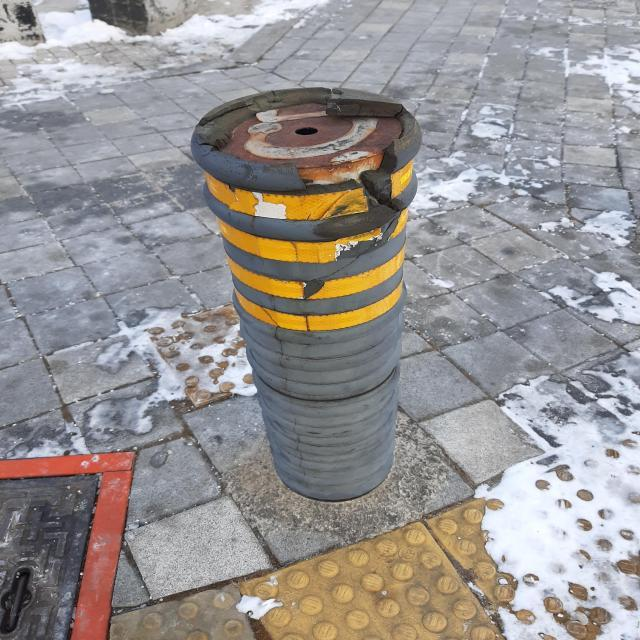pole: (186, 78, 422, 505)
